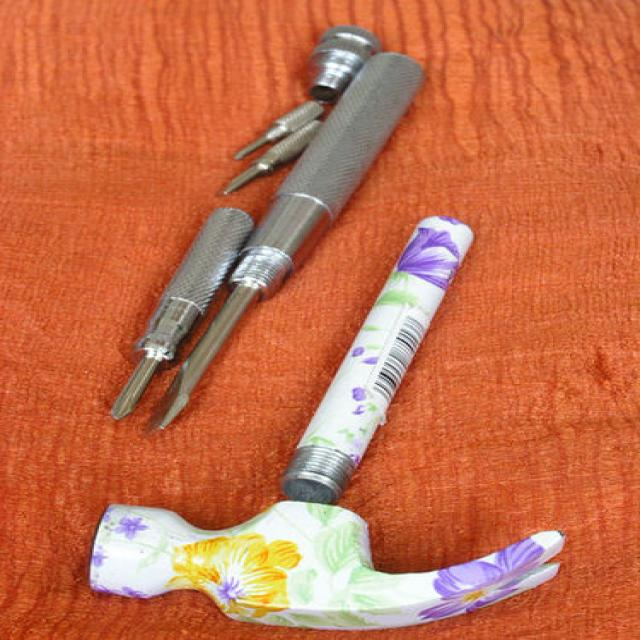Hammer: (75, 217, 559, 634)
Screwdriver: (146, 41, 440, 438), (101, 196, 265, 429), (218, 114, 335, 206), (223, 94, 334, 168)
